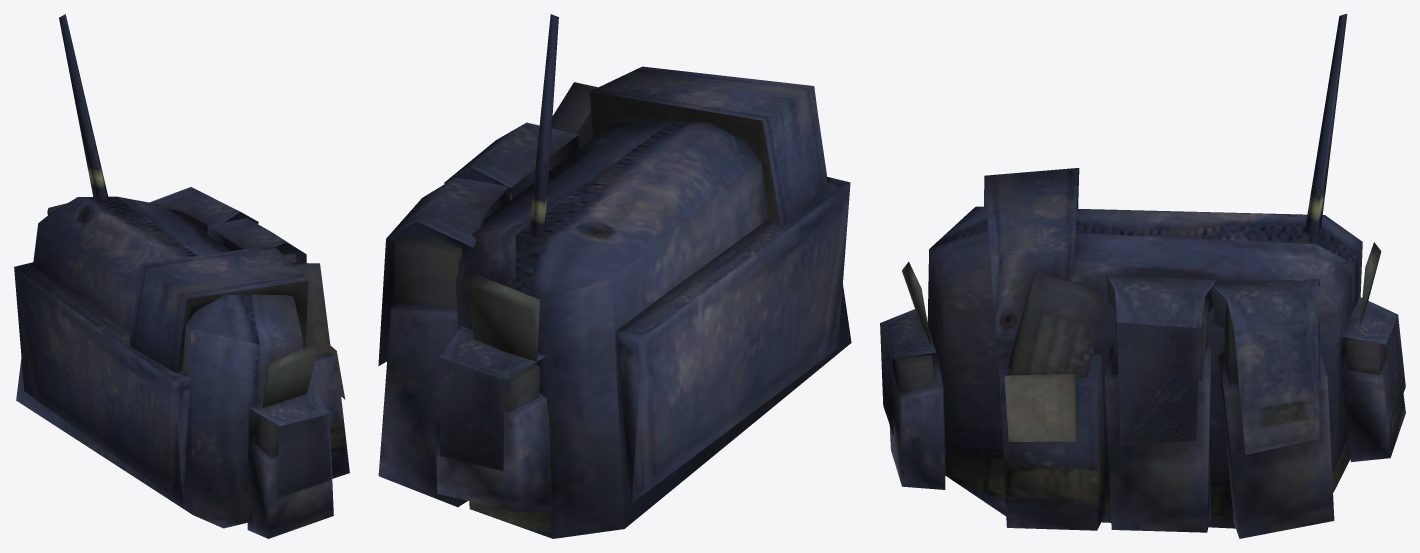
The model's file is p_glo_scavenger_pack_LOD2.obj.
3 views of the same model, side by side, from view 1: azimuth 30°, elevation 25°; view 2: azimuth 150°, elevation 25°; view 3: azimuth 270°, elevation 25° (orthographic). The views are drawn at different scales.
Parts seen in each view (by area): view 1: mtl_p_glo_scavenger_pack_01, mtl_p_glo_scavenger_pack_02; view 2: mtl_p_glo_scavenger_pack_01, mtl_p_glo_scavenger_pack_02; view 3: mtl_p_glo_scavenger_pack_01, mtl_p_glo_scavenger_pack_02.
Part boxes in pixels (bbox=[...]): mtl_p_glo_scavenger_pack_01: bbox=[14, 187, 349, 538]; mtl_p_glo_scavenger_pack_02: bbox=[59, 14, 331, 457]; mtl_p_glo_scavenger_pack_01: bbox=[378, 66, 851, 538]; mtl_p_glo_scavenger_pack_02: bbox=[394, 14, 708, 412]; mtl_p_glo_scavenger_pack_01: bbox=[880, 168, 1405, 538]; mtl_p_glo_scavenger_pack_02: bbox=[892, 14, 1386, 394].
Bounding box in the file's own units: 22.54 × 42.61 × 43.45.
